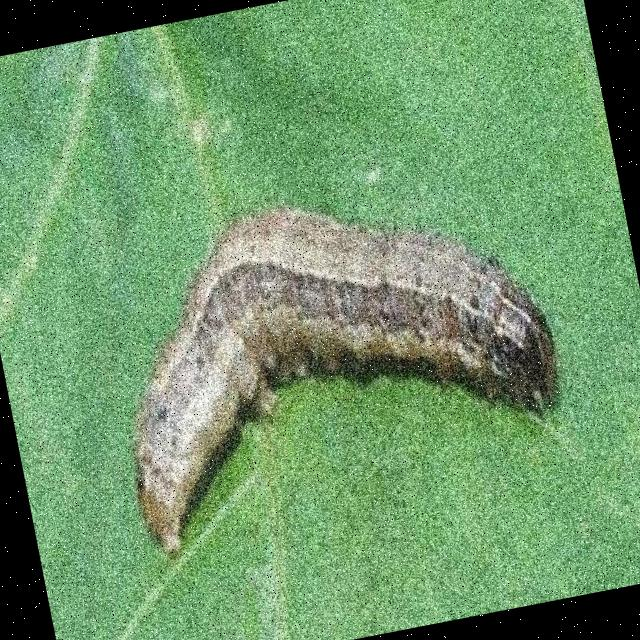worm: (88, 158, 584, 561)
